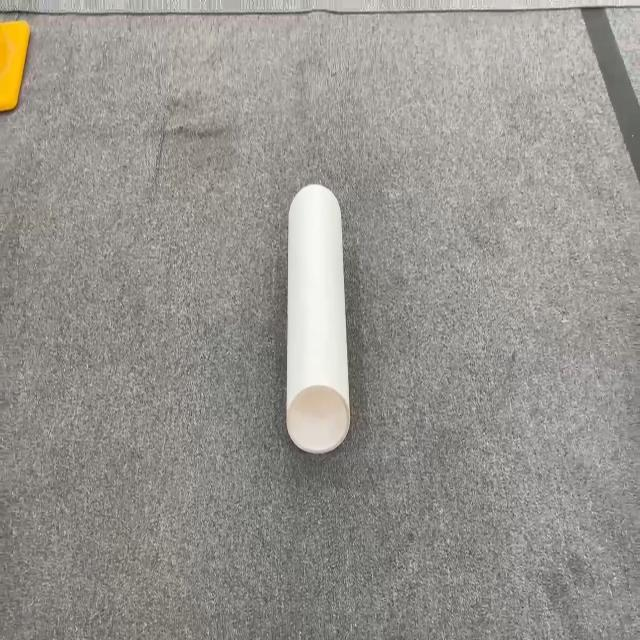coral: (285, 182, 351, 454)
